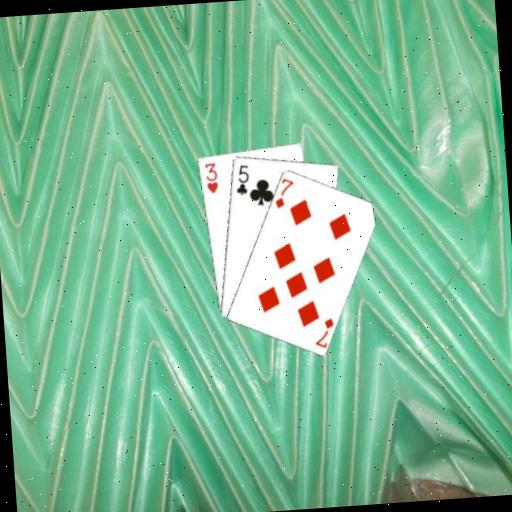3H: (202, 160, 220, 195)
5C: (232, 162, 251, 197)
7D: (271, 175, 297, 210), (311, 314, 337, 349)
